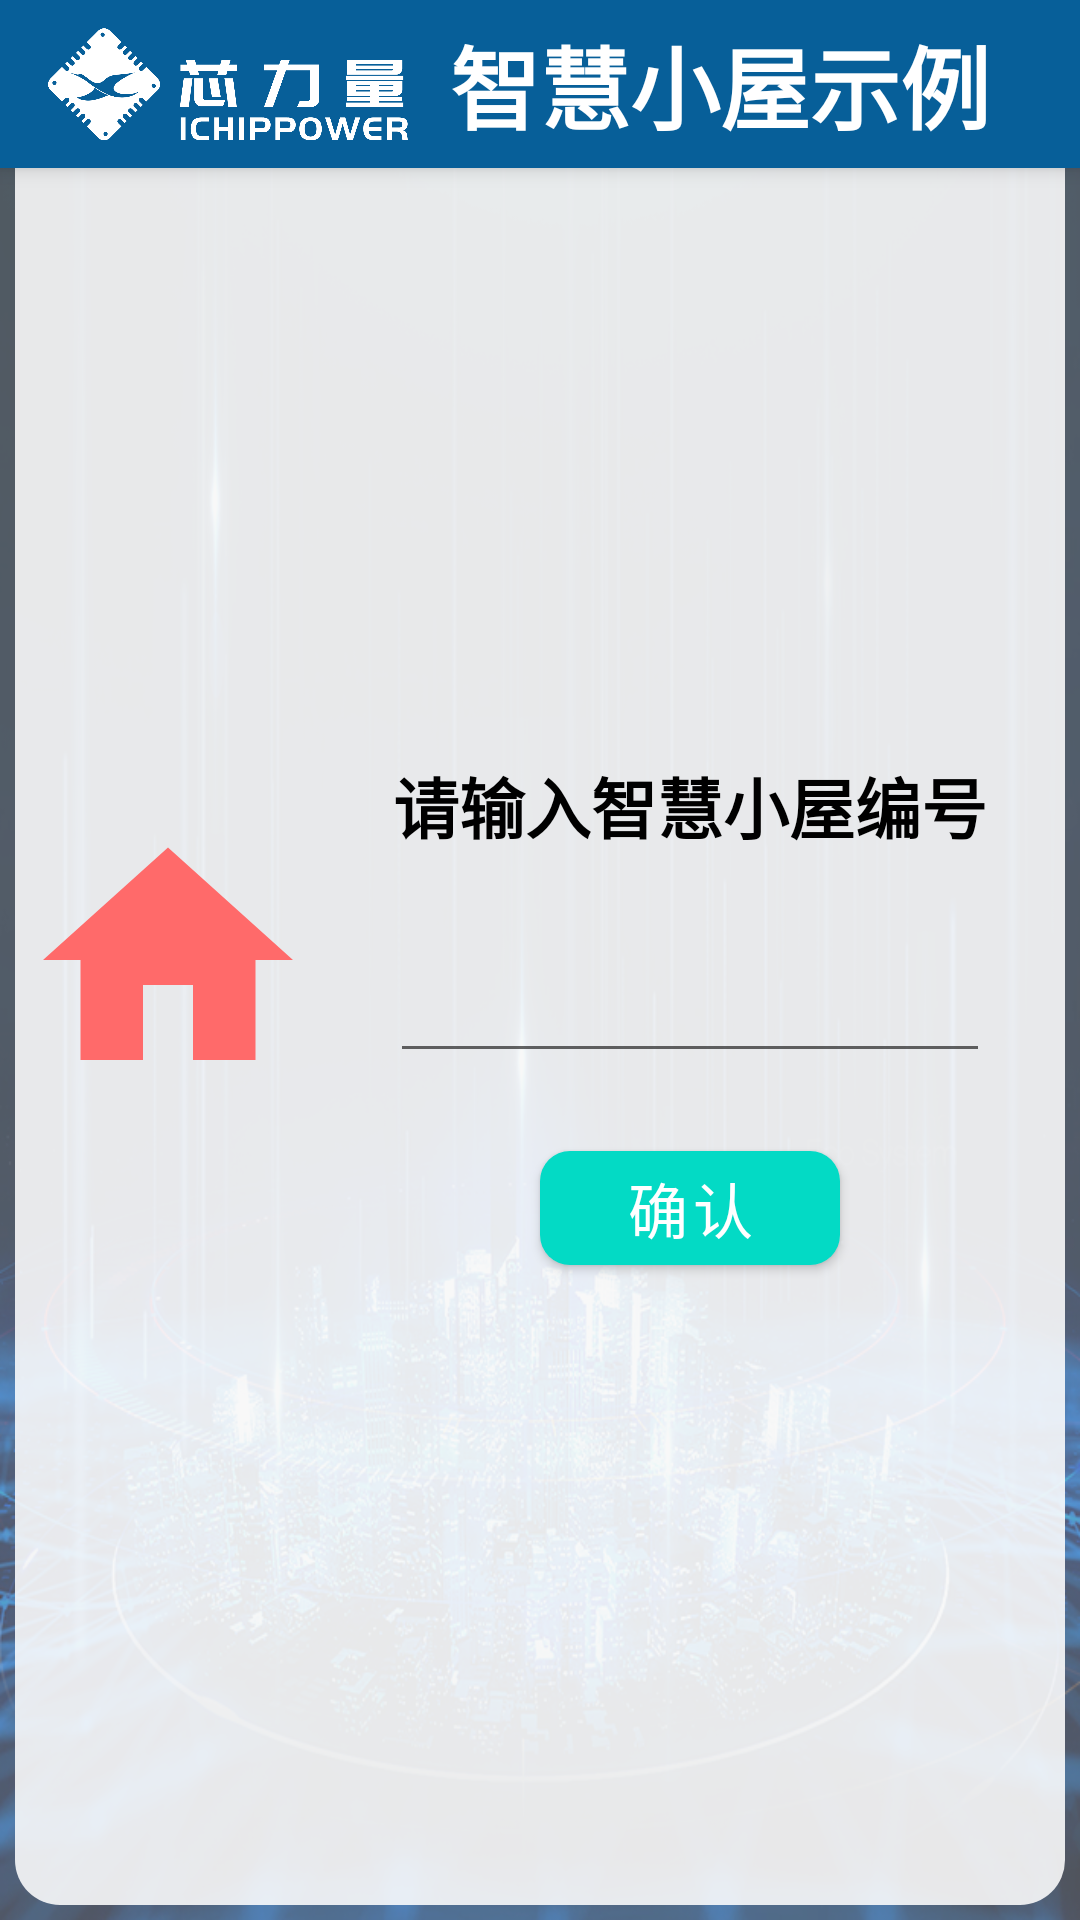

Screen size 1080px x 1920px. Icon name, then its center in pixels as [x,y]:
home: [168,954]
